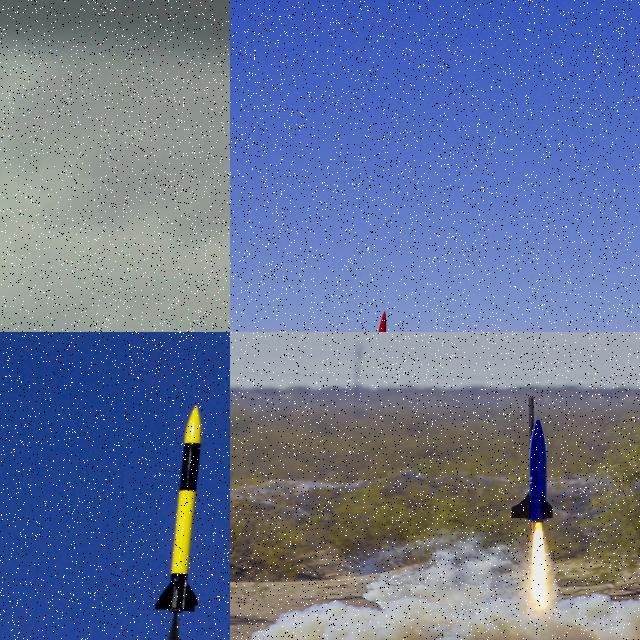Rocket: (153, 404, 201, 613), (510, 414, 555, 526), (359, 310, 389, 332)
